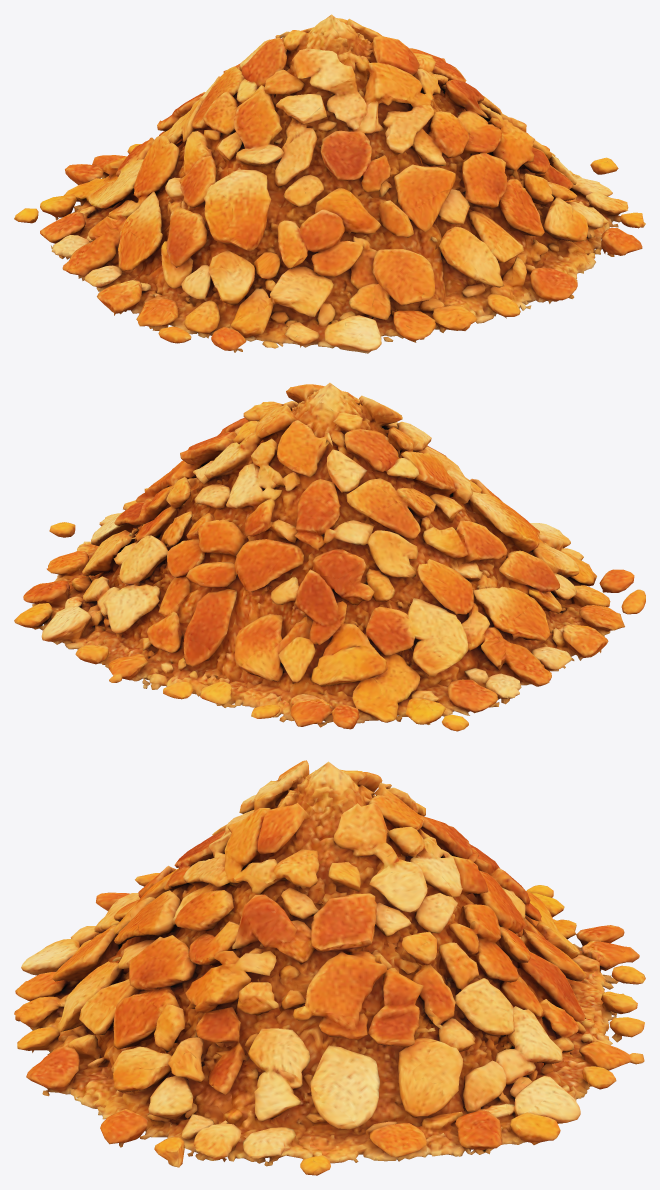
Rendered from lod_basic_shaded.fbx.
3 renders of one model, top to bottom at view 1: azimuth 30°, elevation 25°; view 2: azimuth 150°, elevation 25°; view 3: azimuth 270°, elevation 25°, orthographic. The views are drawn at different scales.
Parts seen in each view (by area): view 1: model_LOD0; view 2: model_LOD0; view 3: model_LOD0.
Part boxes in pixels (x1=…): model_LOD0: x1=14, y1=14, x2=645, y2=353; model_LOD0: x1=14, y1=382, x2=645, y2=731; model_LOD0: x1=14, y1=760, x2=645, y2=1175.
Size of what is drawn, in the model's own units: 189 by 78.05 by 168.
